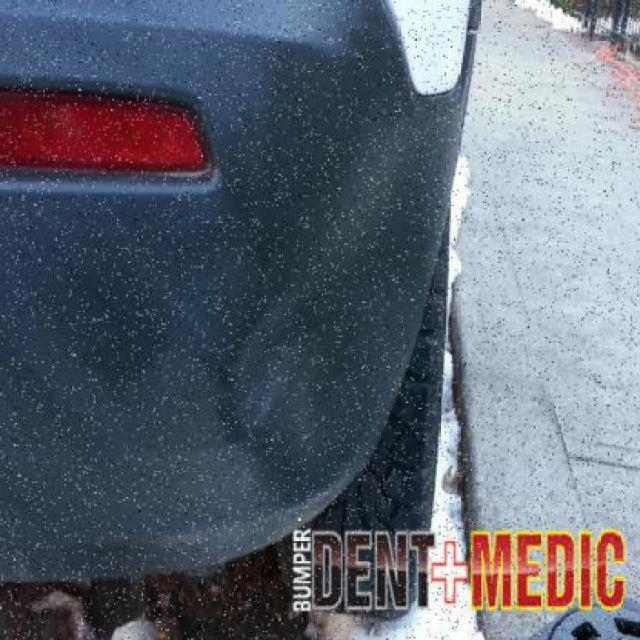rear-bumper-dent: (10, 60, 443, 539)
